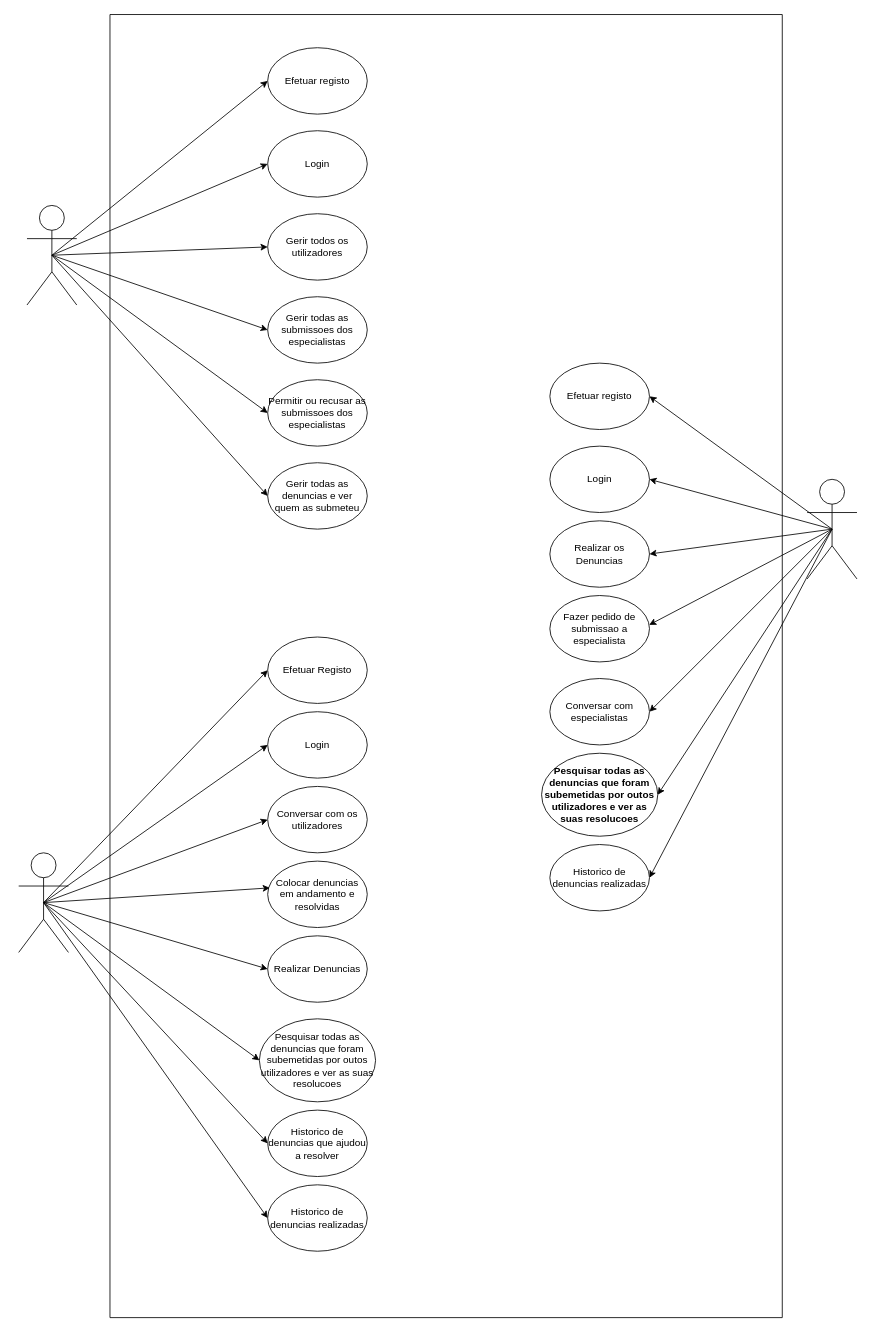
This 872x1332 diagram has some shape labels left out. The box of each missing label's shape, as (x1, y1, x2, y2) in pixels:
Admins: (26, 205, 77, 305)
Especialistas: (18, 852, 68, 952)
Utilizadores: (806, 478, 857, 579)
